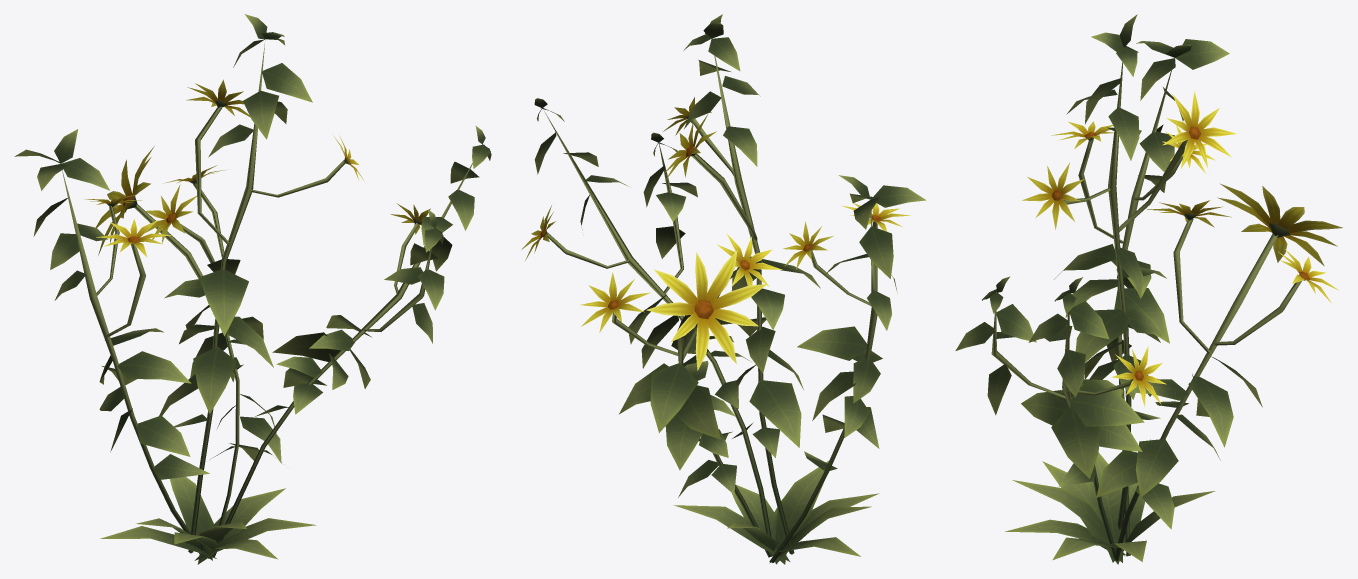
The model's file is assets_maa-artisokka_kukat3.fbx.
3 views of the same model, side by side, from view 1: azimuth 30°, elevation 25°; view 2: azimuth 150°, elevation 25°; view 3: azimuth 270°, elevation 25° (orthographic). The views are drawn at different scales.
Parts seen in each view (by area): view 1: assets_maa_artisokka_kukat3; view 2: assets_maa_artisokka_kukat3; view 3: assets_maa_artisokka_kukat3.
Boxes of the visible parts, bbox=[...] form: assets_maa_artisokka_kukat3: bbox=[14, 14, 491, 564]; assets_maa_artisokka_kukat3: bbox=[521, 14, 926, 564]; assets_maa_artisokka_kukat3: bbox=[955, 14, 1342, 564].
Bounding box in the file's own units: 7.23 × 8.79 × 5.41.
